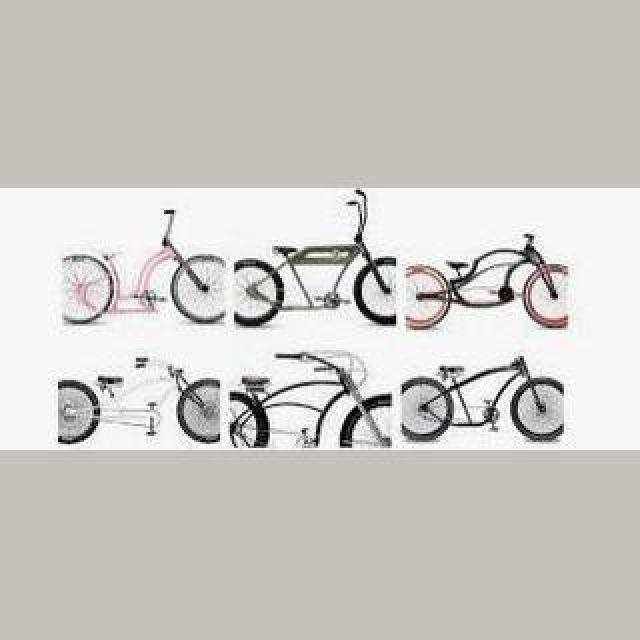Person: (233, 190, 429, 328), (60, 206, 224, 324), (401, 232, 571, 334), (224, 348, 396, 448), (56, 357, 224, 445), (400, 353, 564, 441)
